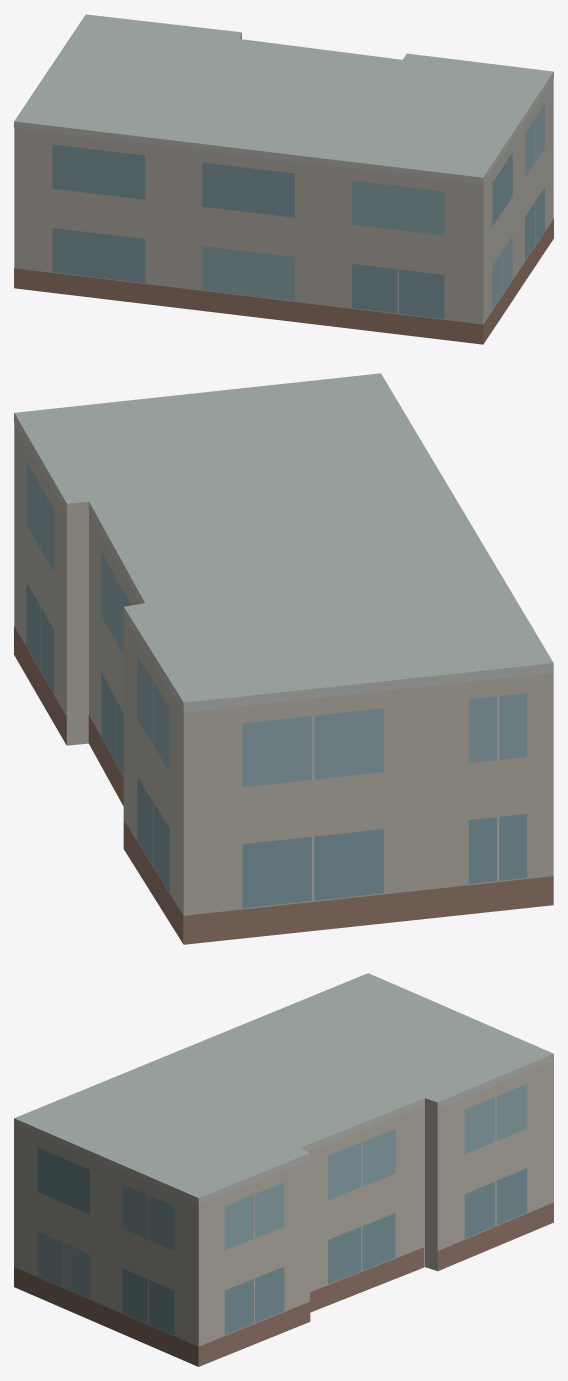
File: survey-upis-32881705.glb
3 renders of one model, top to bottom at view 1: azimuth 30°, elevation 25°; view 2: azimuth 150°, elevation 25°; view 3: azimuth 270°, elevation 25°, orthographic. The views are drawn at different scales.
Visible parts, largest first — view 1: survey-upis-32881705.tmp; view 2: survey-upis-32881705.tmp; view 3: survey-upis-32881705.tmp.
Part boxes in pixels (bbox=[...]): survey-upis-32881705.tmp: bbox=[14, 14, 553, 344]; survey-upis-32881705.tmp: bbox=[14, 373, 553, 944]; survey-upis-32881705.tmp: bbox=[14, 973, 553, 1366].
Size of the model in its own units: 17.45 by 6.1 by 17.69.
